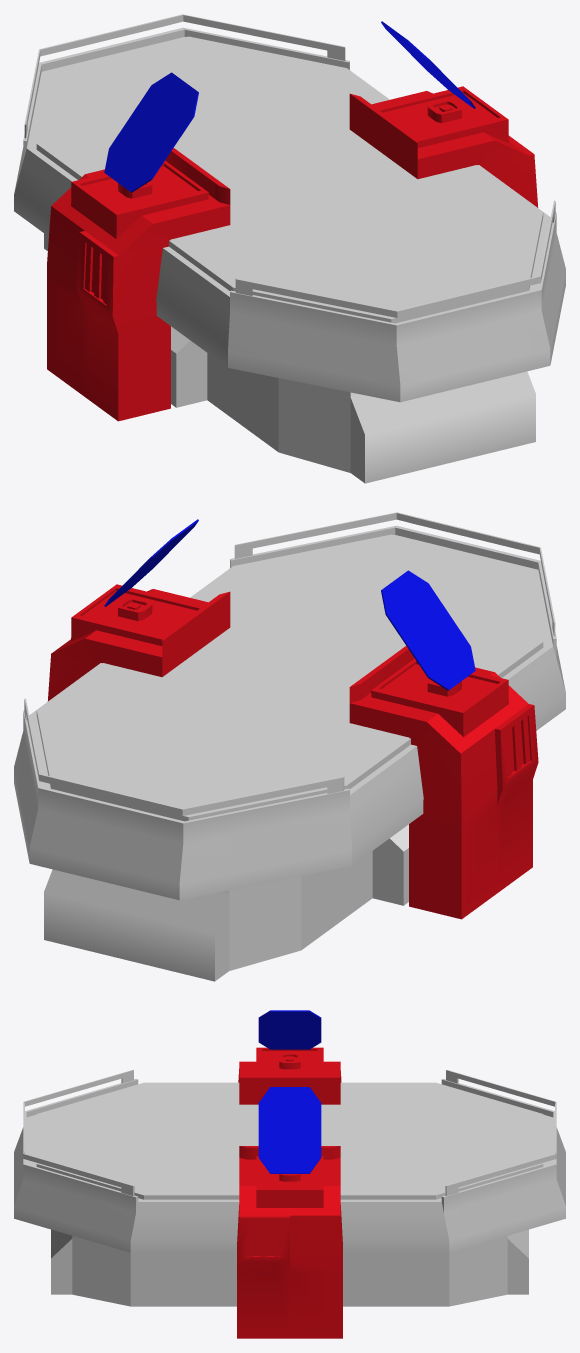
The model's file is upgrade console.fbx.
The picture shows the model from 3 angles, top to bottom: view 1: azimuth 30°, elevation 25°; view 2: azimuth 150°, elevation 25°; view 3: azimuth 270°, elevation 25°; orthographic projection. The views are drawn at different scales.
Parts seen in each view (by area): view 1: Plane, Plane.001, Plane.002, Plane.003; view 2: Plane, Plane.001, Plane.002, Plane.003; view 3: Plane, Plane.001, Plane.002, Plane.003.
Part boxes in pixels (x1,y1,x2,y2): Plane: [14, 27, 565, 483]; Plane.001: [47, 86, 538, 421]; Plane.002: [104, 21, 475, 192]; Plane.003: [24, 14, 555, 317]; Plane: [14, 525, 565, 981]; Plane.001: [47, 584, 538, 919]; Plane.002: [104, 519, 475, 690]; Plane.003: [24, 512, 555, 815]; Plane: [14, 1079, 565, 1306]; Plane.001: [237, 1047, 342, 1338]; Plane.002: [258, 1010, 321, 1173]; Plane.003: [23, 1070, 556, 1195].
Size of the model in its own units: 671 by 435 by 1012.
